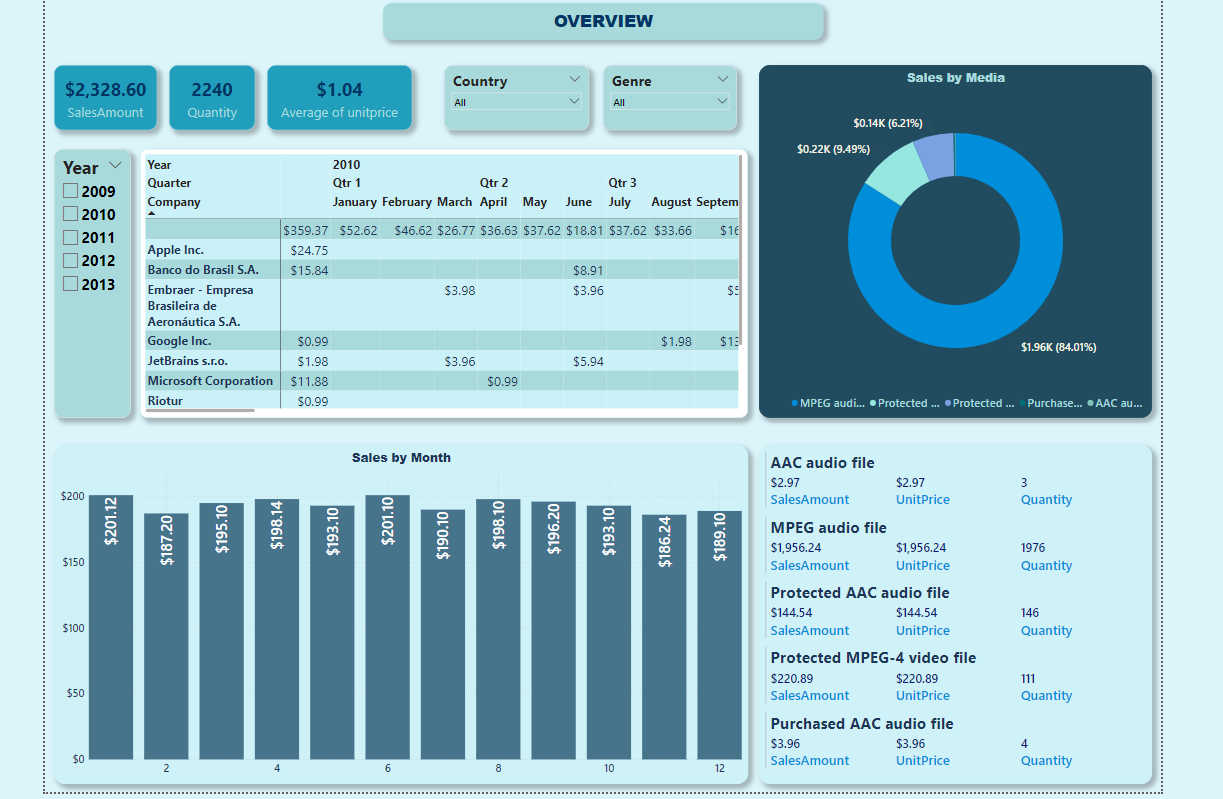

The page's visual inventory and layout, read from the dashboard file:
{"tool":"powerbi","page":{"name":"Overview","canvas":[2500,1800],"ordinal":0},"visuals":[{"type":"slicer","fields":{"Values":["Sales_Fact.Year"]},"box":[20.1,360.4,172.4,602.2],"z":0},{"type":"slicer","fields":{"Values":["Dim_Genre.genre_name"]},"box":[1249.3,172.4,300,145.5],"z":1000},{"type":"slicer","fields":{"Values":["Dim_Customers.country"]},"box":[893.3,172.4,324.6,145.5],"z":2000},{"type":"textbox","box":[756,34,986,82],"z":3000},{"type":"card","fields":{"Values":["Sum(Sales_Fact.salesamount)"]},"box":[20.1,172.4,230.6,145.5],"z":4000},{"type":"card","fields":{"Values":["Sum(Sales_Fact.quantity)"]},"box":[277.6,172.4,192.5,145.5],"z":5000},{"type":"card","fields":{"Values":["Avg(Sales_Fact.unitprice)"]},"box":[497,172.4,324.6,145.5],"z":6000},{"type":"donutChart","title":"Sales by Media","fields":{"Category":["Dim_Media_Type.media_name"],"Y":["Sum(Sales_Fact.salesamount)"]},"box":[1598.5,172.4,879.9,790.3],"z":7000},{"type":"pivotTable","fields":{"Rows":["Dim_Customers.company"],"Values":["Sum(Sales_Fact.salesamount)"],"Columns":["DateTable.Date.Variation.Date Hierarchy.Year","DateTable.Date.Variation.Date Hierarchy.Quarter","DateTable.Date.Variation.Date Hierarchy.Month","DateTable.Date.Variation.Date Hierarchy.Day"]},"box":[212.7,360.4,1361.2,602.2],"z":8000},{"type":"clusteredColumnChart","title":"Sales by Month","fields":{"Category":["Sales_Fact.Month"],"Y":["Sum(Sales_Fact.salesamount)"]},"box":[20.1,1023.1,1553.7,759],"z":9000},{"type":"multiRowCard","fields":{"Values":["Dim_Media_Type.media_name","Sum(Sales_Fact.salesamount)","Sum(Sales_Fact.unitprice)","Sum(Sales_Fact.quantity)"]},"box":[1598.5,1023.1,879.9,759],"z":10000}]}

Visuals, with their boxes on the page's 2500x1800 design canvas (x1, y1, x2, y2). These are canvas units, not pixel positions in the 1223x799 screenshot, which may show the page scaled, cropped or inside an application window:
slicer - Sales_Fact.Year: [x1=20, y1=360, x2=192, y2=963]
slicer - Dim_Genre.genre_name: [x1=1249, y1=172, x2=1549, y2=318]
slicer - Dim_Customers.country: [x1=893, y1=172, x2=1218, y2=318]
textbox: [x1=756, y1=34, x2=1742, y2=116]
card - Sum(Sales_Fact.salesamount): [x1=20, y1=172, x2=251, y2=318]
card - Sum(Sales_Fact.quantity): [x1=278, y1=172, x2=470, y2=318]
card - Avg(Sales_Fact.unitprice): [x1=497, y1=172, x2=822, y2=318]
"Sales by Media" donutChart: [x1=1598, y1=172, x2=2478, y2=963]
pivotTable - Dim_Customers.company x Sum(Sales_Fact.salesamount): [x1=213, y1=360, x2=1574, y2=963]
"Sales by Month" clusteredColumnChart: [x1=20, y1=1023, x2=1574, y2=1782]
multiRowCard - Dim_Media_Type.media_name x Sum(Sales_Fact.salesamount): [x1=1598, y1=1023, x2=2478, y2=1782]
